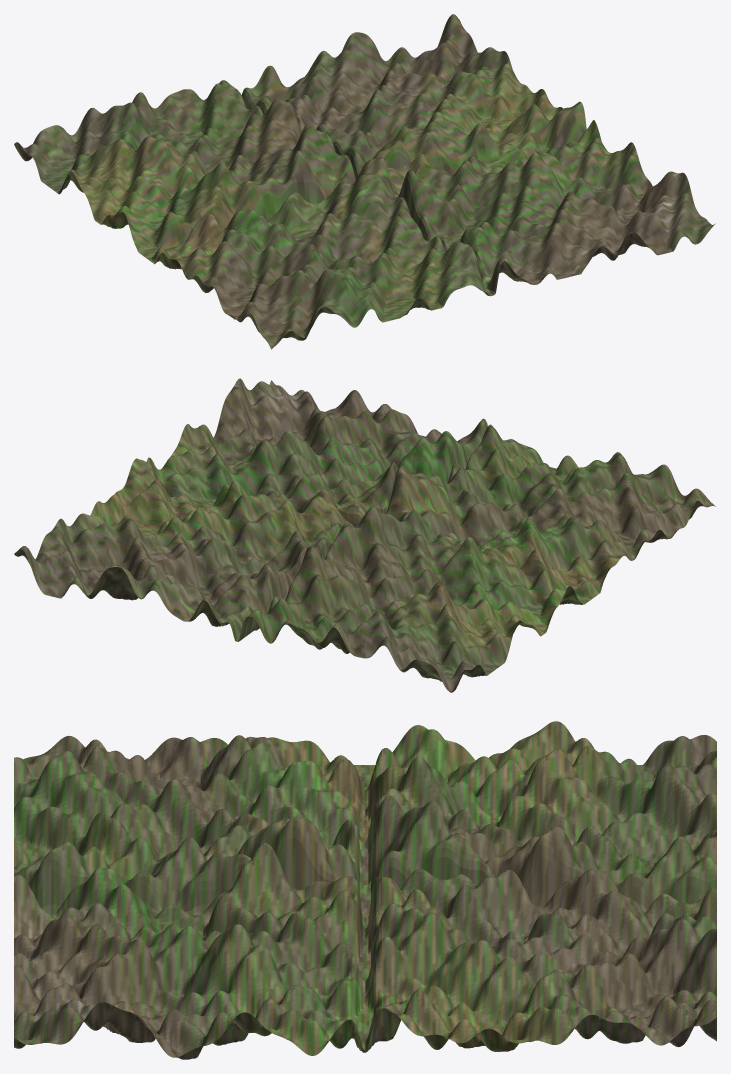
File: terrain.glb
3 renders of one model, top to bottom at view 1: azimuth 30°, elevation 25°; view 2: azimuth 150°, elevation 25°; view 3: azimuth 270°, elevation 25°, orthographic. The views are drawn at different scales.
Parts seen in each view (by area): view 1: Terrain; view 2: Terrain; view 3: Terrain.
Boxes of the visible parts, x1,y1,x2,y2 form: Terrain: (14, 14, 715, 349); Terrain: (14, 378, 715, 692); Terrain: (14, 721, 716, 1059).
Bounding box in the file's own units: 9000 × 1284 × 9000.
